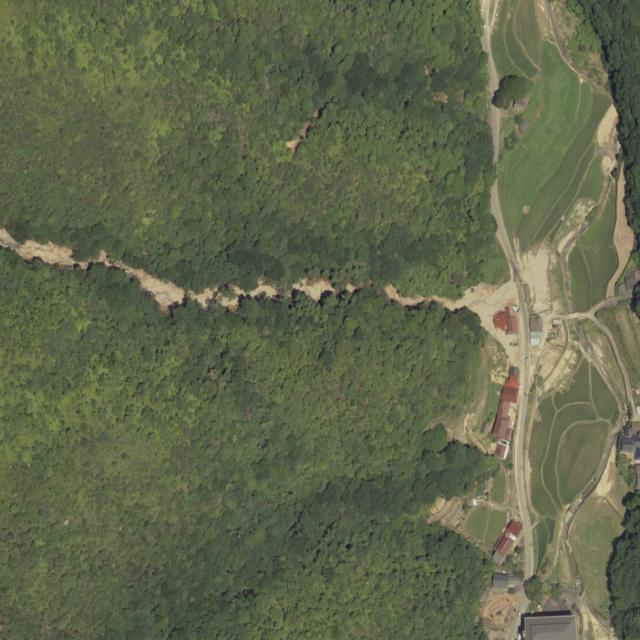landslide: (0, 228, 281, 312), (385, 285, 458, 310), (292, 278, 339, 302)
